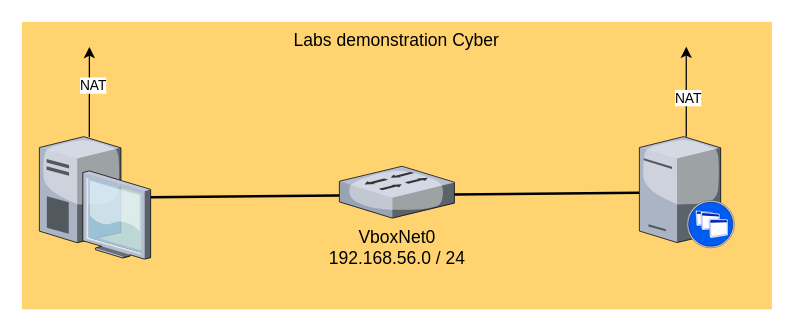
Image size: 793x330. Some labels were removed from this diagram. The shapes that lost their labels are listed below. From the top down, each one's centre as x and y in pixels, then its label:
pixel 94 197: Attack
pixel 686 191: Victime
